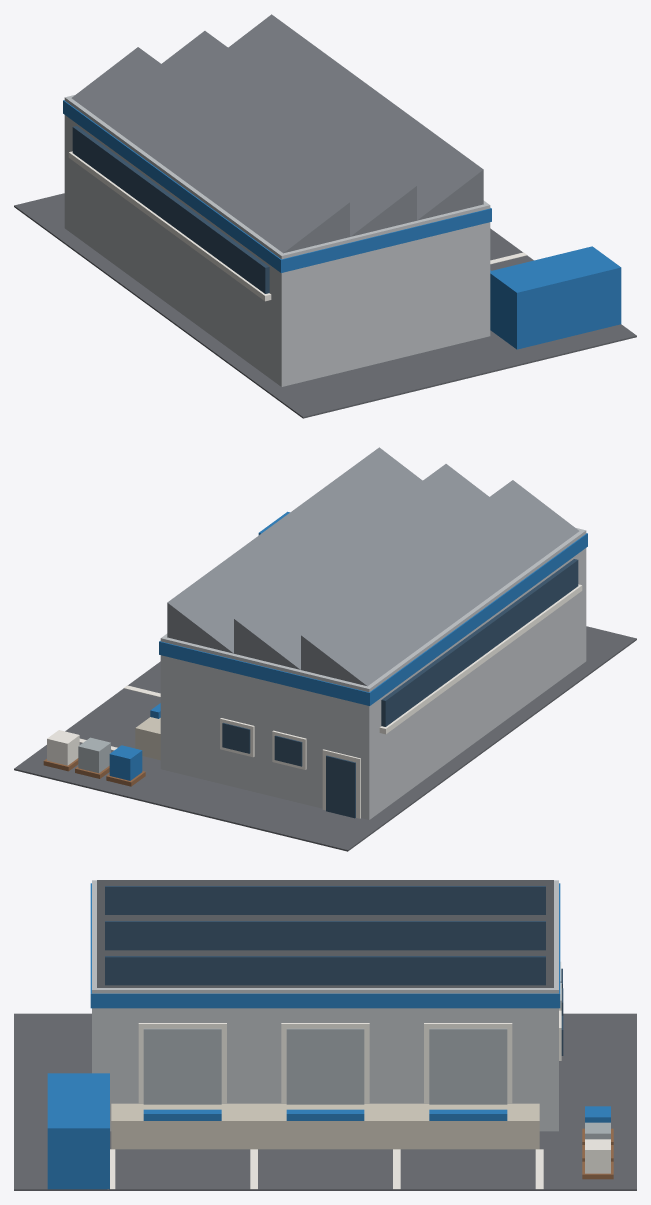
The picture shows the model from 3 angles, top to bottom: view 1: azimuth 30°, elevation 25°; view 2: azimuth 150°, elevation 25°; view 3: azimuth 270°, elevation 25°; orthographic projection. The views are drawn at different scales.
Parts seen in each view (by area): view 1: roof (×3), hall, yard, container, cladding_band, window_band, sill; view 2: roof (×3), hall, yard, cladding_band, window_band, crate (×3), door, sill, window_glass (×2), dock, door_frame; view 3: skylight (×3), yard, hall, garage_door (×3), dock, roof (×3), cladding_band, container, garage_door_frame (×3), bumper (×3), crate (×3).
Part boxes in pixels (box(x1,y1,x2,y2)): roof (×3): box(71, 14, 483, 253); hall: box(64, 95, 490, 386); yard: box(14, 193, 636, 418); container: box(490, 246, 621, 349); cladding_band: box(63, 100, 491, 272); window_band: box(72, 126, 269, 293); sill: box(68, 151, 271, 301); roof (×3): box(167, 447, 579, 686); hall: box(160, 528, 586, 819); yard: box(14, 626, 636, 851); cladding_band: box(159, 533, 587, 705); window_band: box(381, 559, 578, 726); crate (×3): box(47, 730, 142, 780); door: box(326, 755, 355, 818); sill: box(379, 584, 582, 734); window_glass (×2): box(222, 722, 302, 766); dock: box(135, 717, 160, 760); door_frame: box(322, 749, 360, 818); skylight (×3): box(105, 886, 545, 985); yard: box(14, 1013, 636, 1190); hall: box(92, 880, 558, 1131); garage_door (×3): box(143, 1028, 507, 1104); dock: box(111, 1103, 539, 1149); roof (×3): box(97, 880, 553, 987); cladding_band: box(90, 883, 560, 1008); container: box(47, 1073, 109, 1189); garage_door_frame (×3): box(138, 1023, 512, 1103); bumper (×3): box(143, 1109, 507, 1120); crate (×3): box(585, 1106, 610, 1173).
Size of the model in its own units: 16 by 7.67 by 24.
